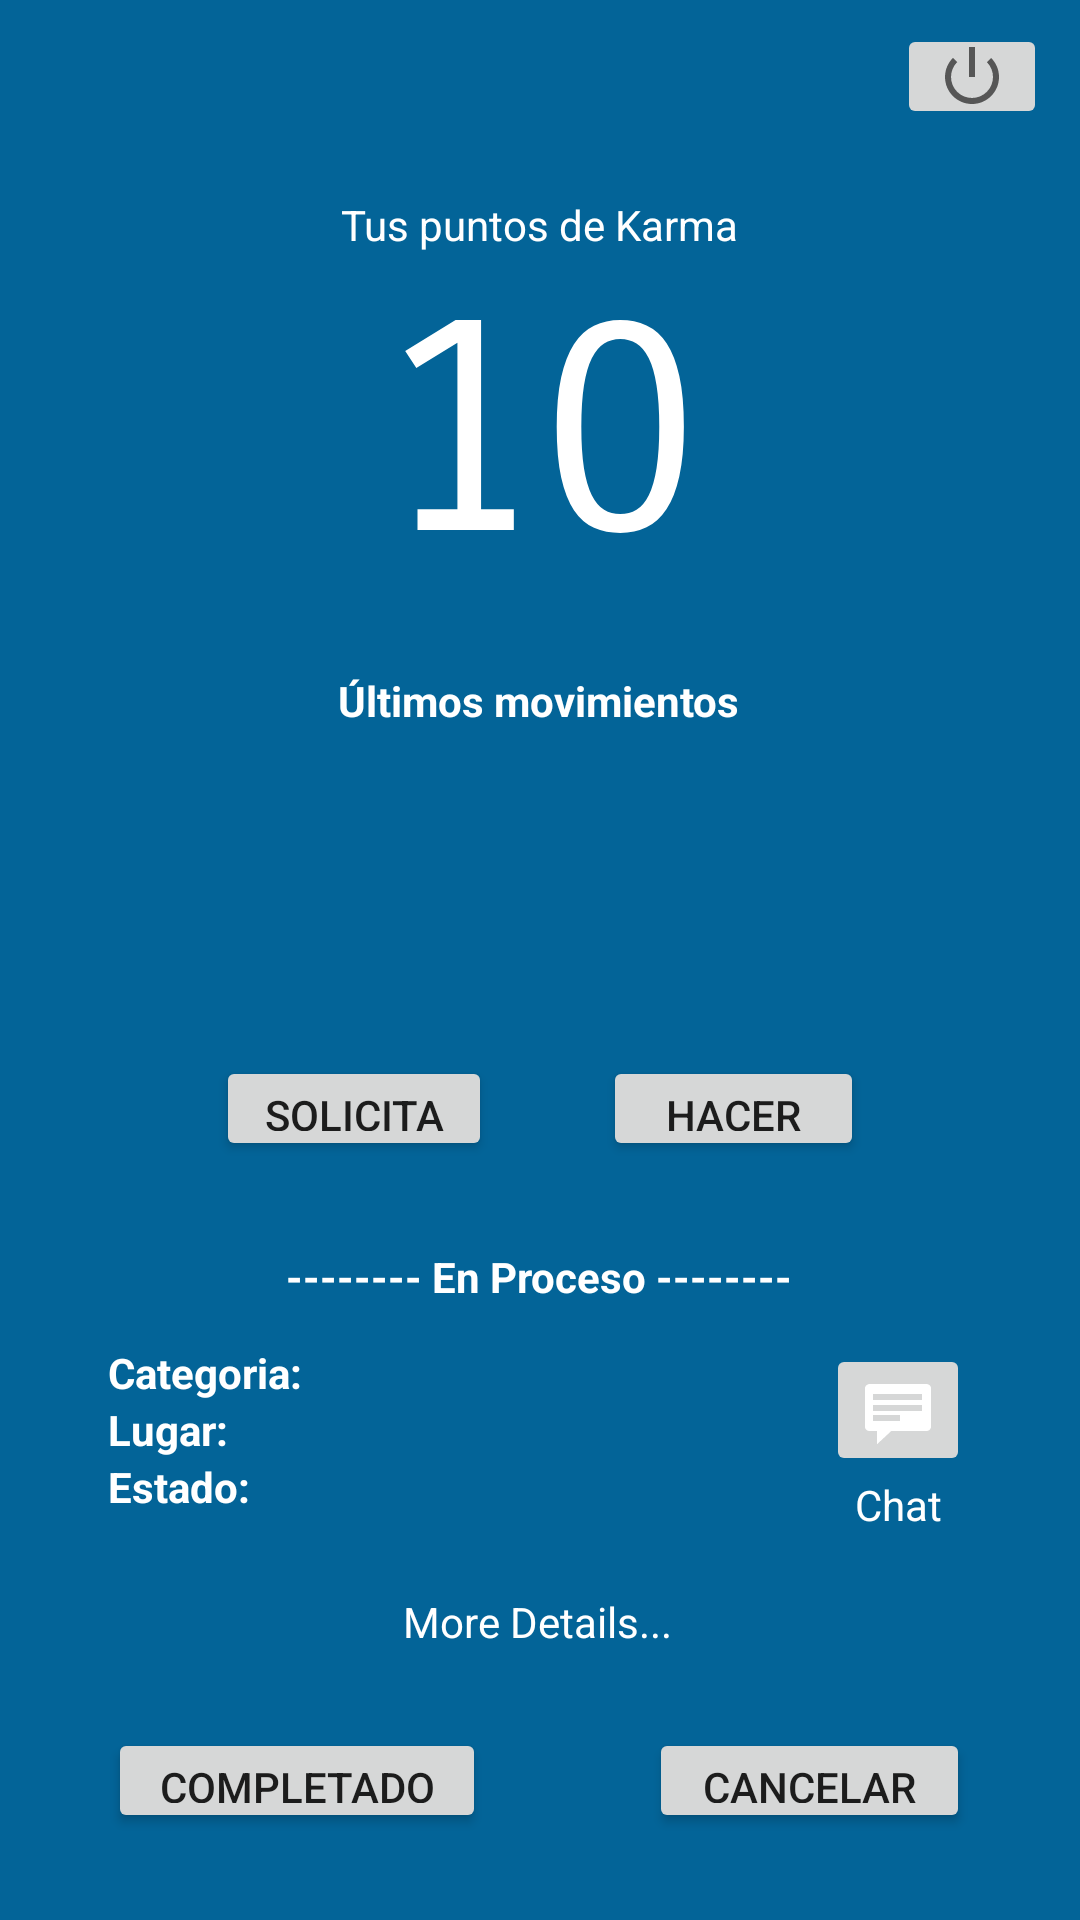

Point at icon controls on the screen. Image size 1080x1920, points as (x=x, y=y).
lock power off: (x=972, y=76)
